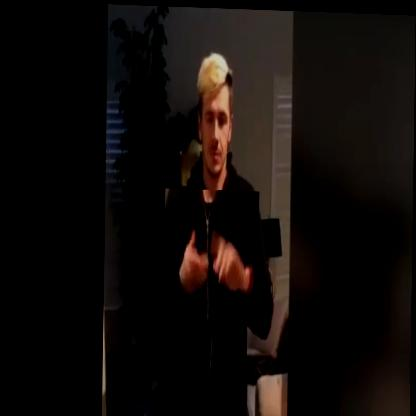NiceToMeetYou: (164, 187, 260, 321)
